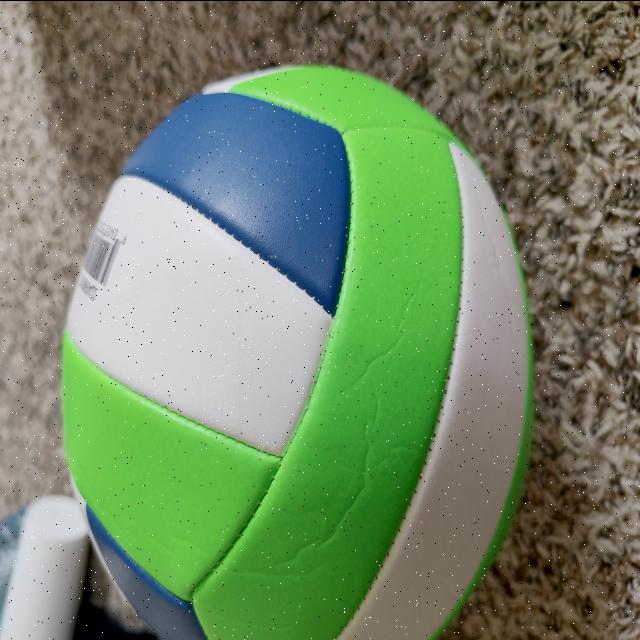ball: (59, 78, 530, 640)
